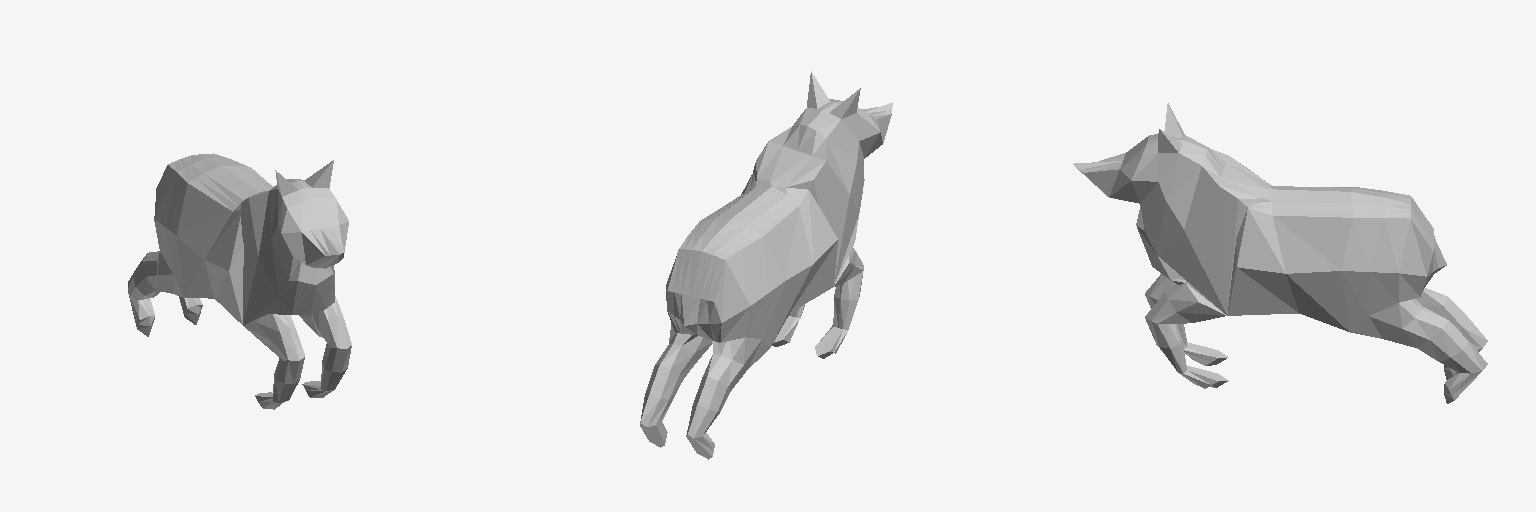
The model's file is piesblendtex_000011.obj.
3 views of the same model, side by side, from view 1: azimuth 30°, elevation 25°; view 2: azimuth 150°, elevation 25°; view 3: azimuth 270°, elevation 25° (orthographic).
Visible parts, largest first — view 1: Cube; view 2: Cube; view 3: Cube.
Boxes of the visible parts, x1=… form: Cube: x1=128, y1=153, x2=351, y2=409; Cube: x1=640, y1=71, x2=892, y2=459; Cube: x1=1073, y1=103, x2=1487, y2=403.
Size of the model in its own units: 2.56 by 6.87 by 9.49.